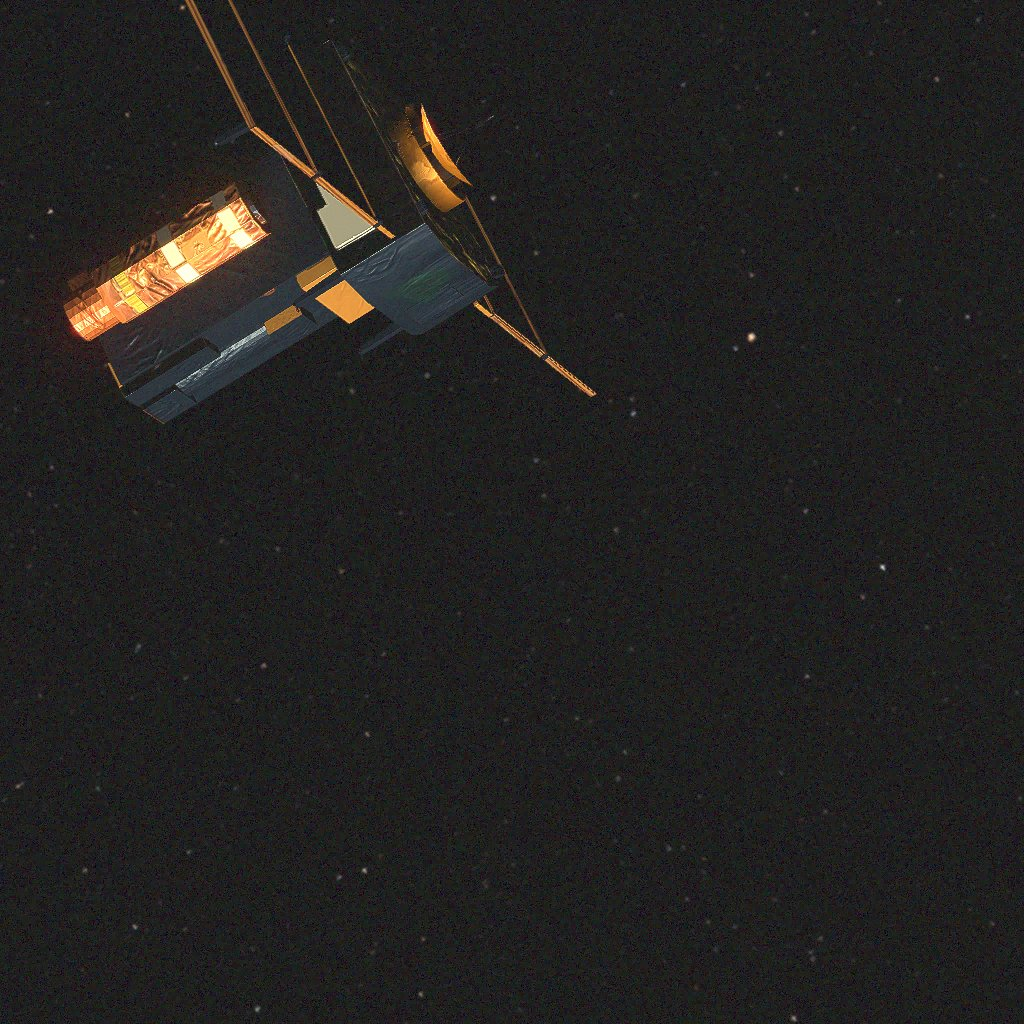soho: (61, 0, 596, 424)
